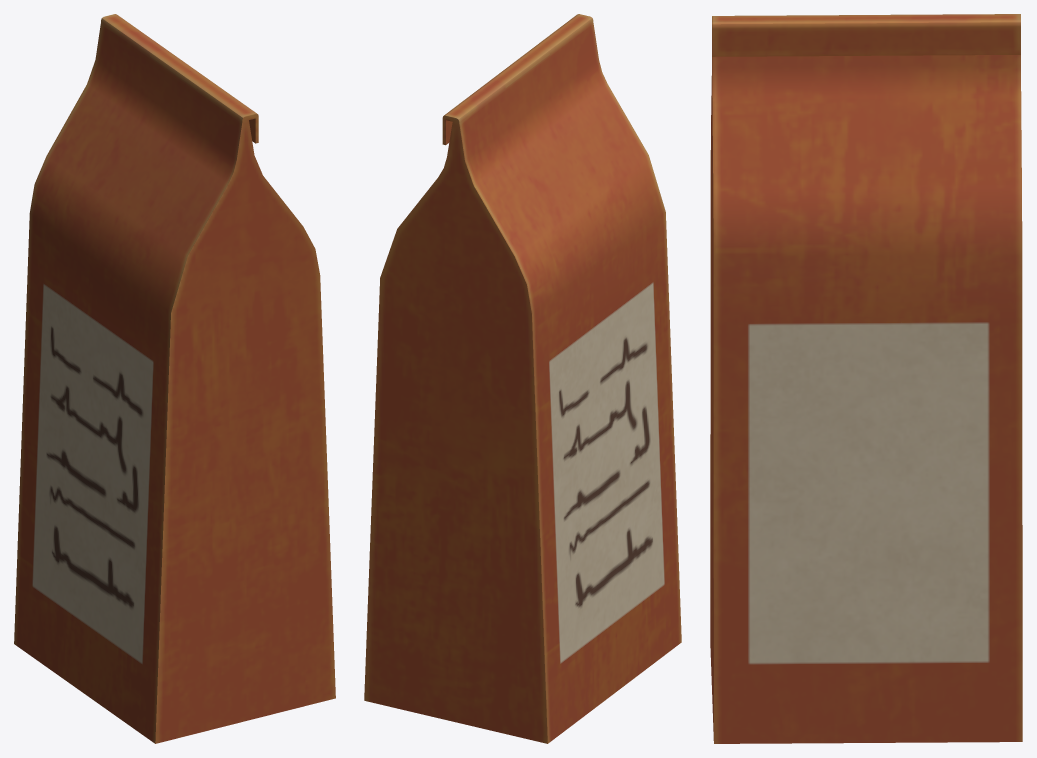
The model's file is SM_FoodPot_01.fbx.
3 views of the same model, side by side, from view 1: azimuth 30°, elevation 25°; view 2: azimuth 150°, elevation 25°; view 3: azimuth 270°, elevation 25° (orthographic). The views are drawn at different scales.
Visible parts, largest first — view 1: SM_FoodPot_01_LOD0; view 2: SM_FoodPot_01_LOD0; view 3: SM_FoodPot_01_LOD0.
Part boxes in pixels (left/top/right/bottom): SM_FoodPot_01_LOD0: left=14, top=14, right=335, bottom=743; SM_FoodPot_01_LOD0: left=364, top=14, right=681, bottom=743; SM_FoodPot_01_LOD0: left=710, top=14, right=1022, bottom=743.
Bounding box in the file's own units: 7.19 × 9.34 × 22.37.
1 material, 1 textured.
